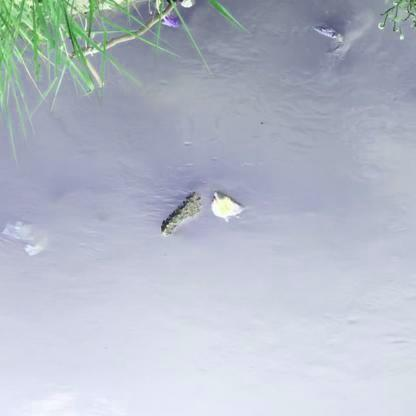Trash: (4, 214, 50, 260), (208, 186, 247, 226), (159, 11, 184, 27)
